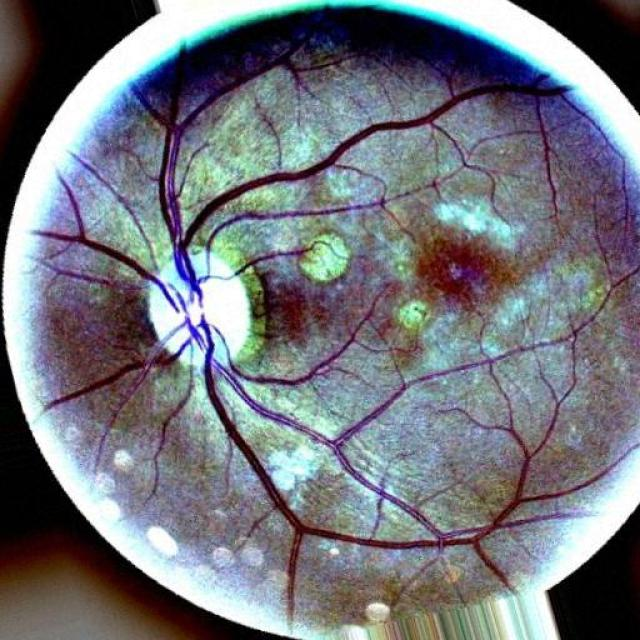Macula: (415, 236, 513, 311)
Nerves: (180, 291, 528, 611), (159, 42, 546, 290), (198, 297, 593, 531)
Optic Disk: (138, 234, 266, 375)
